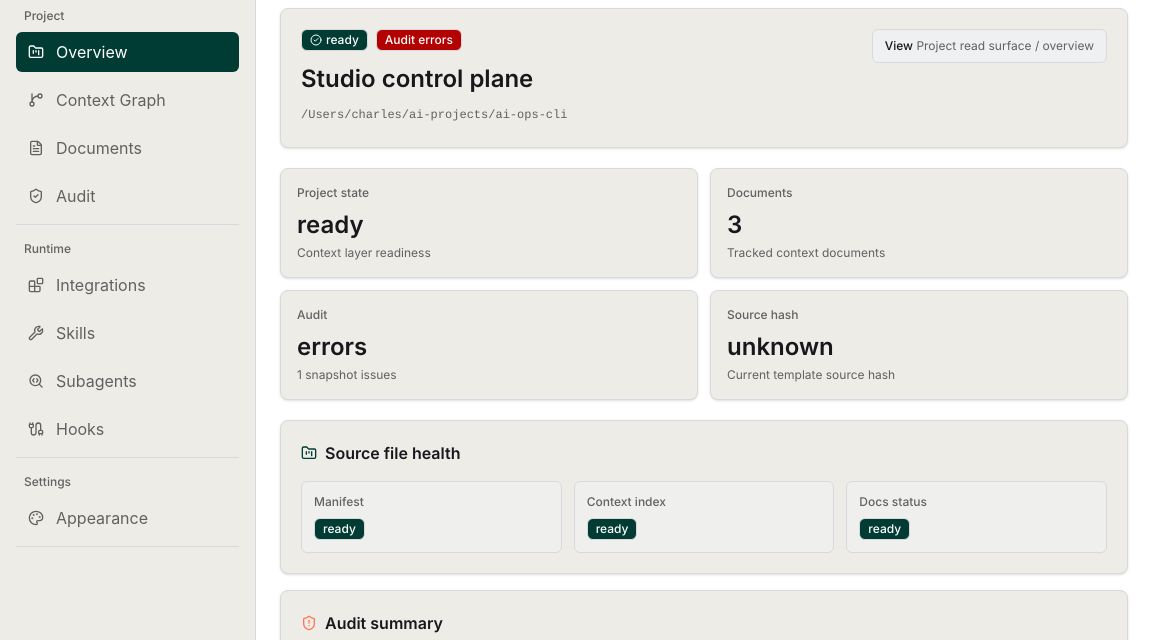
Test: App shell › does not show document navigation for non-document Audit issues
This screenshot has width=1152, height=640.
Click the button "Audit" at (128, 196), box top-left (16, 176), bottom-right (239, 216)
(page scrolled)
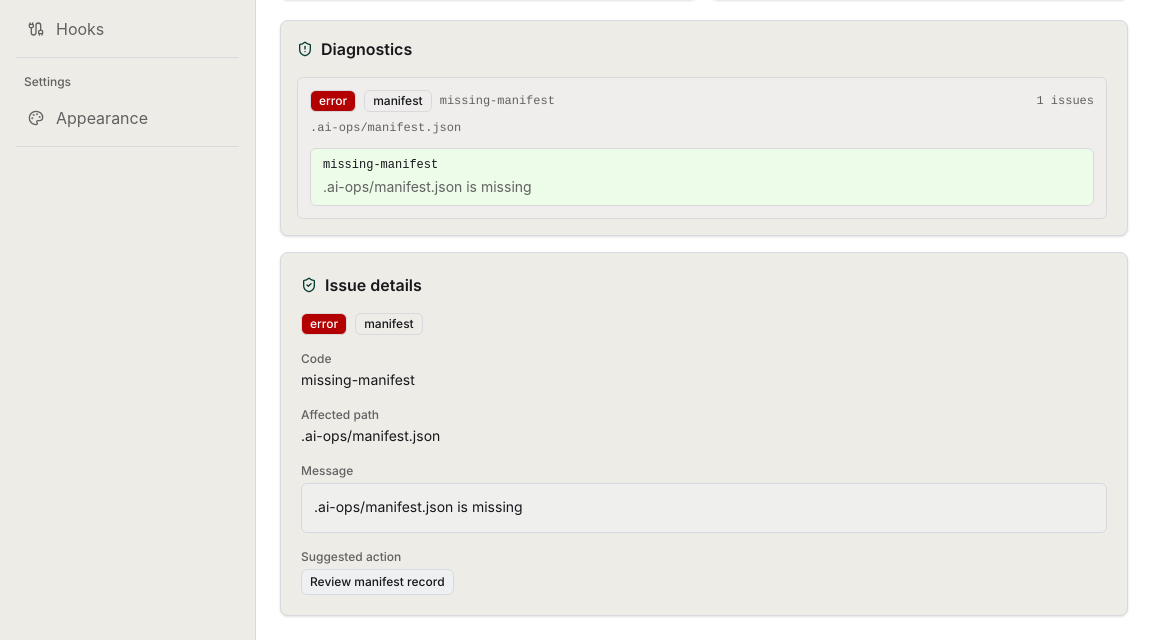
Result: the text "missing-manifest" in the row of "issues" is shown at top-left (440, 94), bottom-right (555, 108)
Result: the text "Review manifest record" is shown at top-left (301, 569), bottom-right (454, 595)
